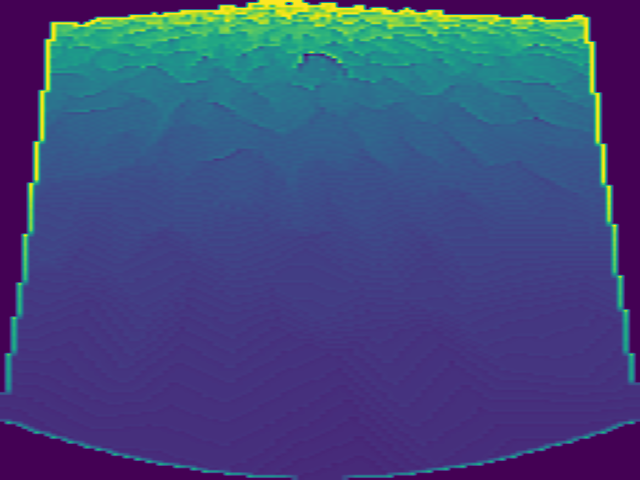car_0198: (297, 52, 352, 82)
